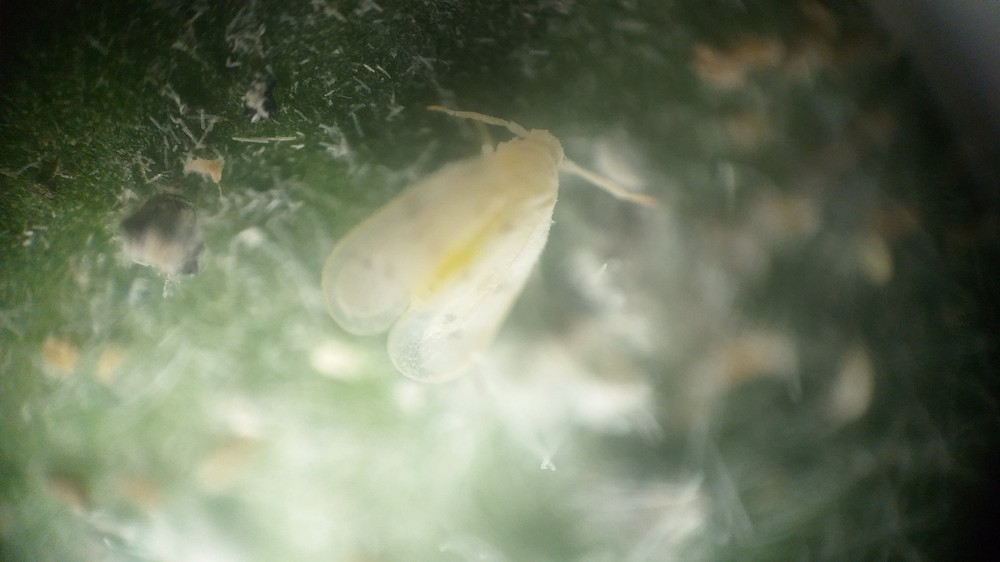Mosca Blanca: (297, 88, 679, 397)
